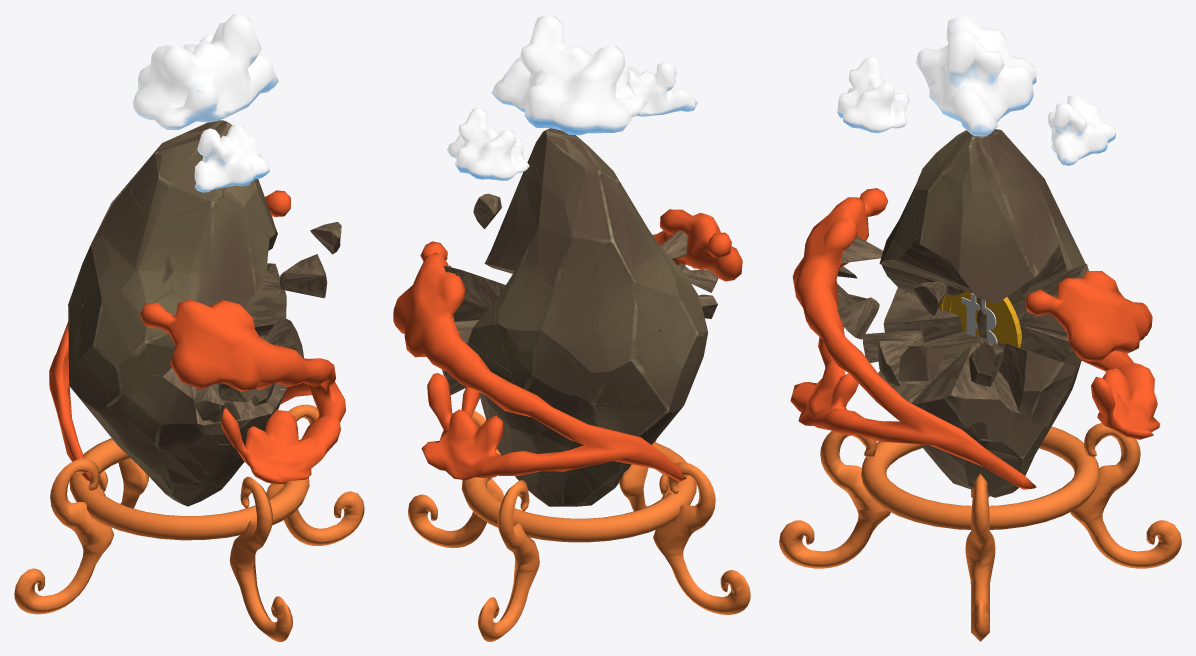
Rendered from JadeArdinals_222.glb.
3 renders of one model, left to right at view 1: azimuth 30°, elevation 25°; view 2: azimuth 150°, elevation 25°; view 3: azimuth 270°, elevation 25°, orthographic. The views are drawn at different scales.
Parts seen in each view (by area): view 1: brokenBrown, BRgold, LiquidGold, Cloud; view 2: brokenBrown, LiquidGold, BRgold, Cloud; view 3: brokenBrown, LiquidGold, BRgold, Cloud, CoinInside.
Part boxes in pixels (x1,y1,x2,y2): brokenBrown: [68, 120, 341, 506]; BRgold: [14, 404, 364, 641]; LiquidGold: [49, 190, 345, 484]; Cloud: [132, 14, 278, 192]; brokenBrown: [442, 128, 718, 506]; LiquidGold: [393, 209, 742, 482]; BRgold: [408, 411, 750, 641]; Cloud: [447, 14, 697, 180]; brokenBrown: [837, 129, 1088, 497]; LiquidGold: [790, 188, 1160, 489]; BRgold: [779, 423, 1181, 641]; Cloud: [837, 14, 1115, 165]; CoinInside: [938, 291, 1021, 347].
Bounding box in the file's own units: 3.45 × 5.28 × 3.45.
Materials: 6 (2 with a texture image).
